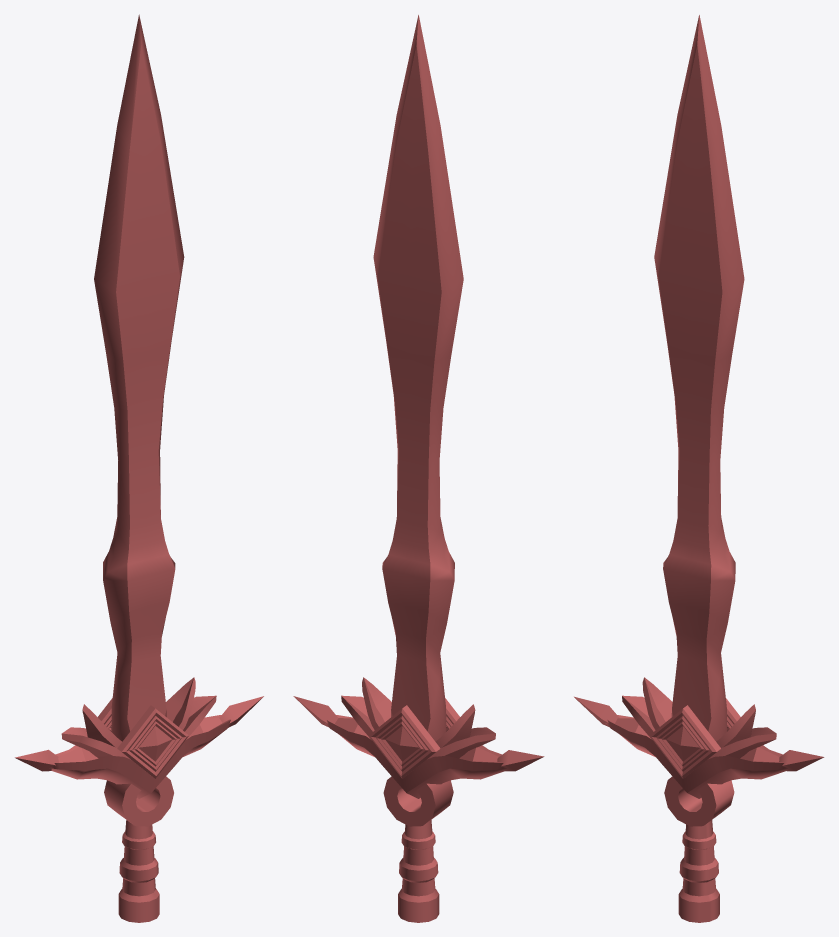
The model's file is Vitale_Edit.fbx.
3 views of the same model, side by side, from view 1: azimuth 30°, elevation 25°; view 2: azimuth 150°, elevation 25°; view 3: azimuth 330°, elevation 25° (orthographic).
Parts seen in each view (by area): view 1: blade_lo, decopart3_lo, handle_lo, gem_outer, ring_lo, decopart1_lo, decopart2_lo, crystal; view 2: blade_lo, decopart3_lo, handle_lo, gem_outer1, ring_lo, decopart1_lo, decopart2_lo, crystal; view 3: blade_lo, decopart3_lo, handle_lo, gem_outer, ring_lo, decopart1_lo, decopart2_lo, crystal.
Boxes of the visible parts, x1=… form: blade_lo: x1=94, y1=14, x2=184, y2=741; decopart3_lo: x1=15, y1=696, x2=263, y2=798; handle_lo: x1=118, y1=820, x2=159, y2=922; gem_outer: x1=117, y1=705, x2=188, y2=778; ring_lo: x1=104, y1=776, x2=173, y2=826; decopart1_lo: x1=82, y1=677, x2=195, y2=747; decopart2_lo: x1=61, y1=695, x2=216, y2=759; crystal: x1=58, y1=718, x2=222, y2=762; blade_lo: x1=373, y1=15, x2=463, y2=741; decopart3_lo: x1=293, y1=696, x2=544, y2=798; handle_lo: x1=398, y1=820, x2=439, y2=922; gem_outer1: x1=368, y1=705, x2=440, y2=778; ring_lo: x1=383, y1=776, x2=453, y2=826; decopart1_lo: x1=362, y1=677, x2=475, y2=747; decopart2_lo: x1=341, y1=695, x2=495, y2=759; crystal: x1=335, y1=718, x2=498, y2=761; blade_lo: x1=654, y1=15, x2=744, y2=741; decopart3_lo: x1=574, y1=696, x2=824, y2=798; handle_lo: x1=678, y1=820, x2=719, y2=922; gem_outer: x1=649, y1=705, x2=720, y2=778; ring_lo: x1=664, y1=776, x2=734, y2=826; decopart1_lo: x1=642, y1=677, x2=755, y2=747; decopart2_lo: x1=622, y1=695, x2=776, y2=759; crystal: x1=615, y1=718, x2=779, y2=761.
Size of the model in its own units: 43.88 by 151 by 11.32.
